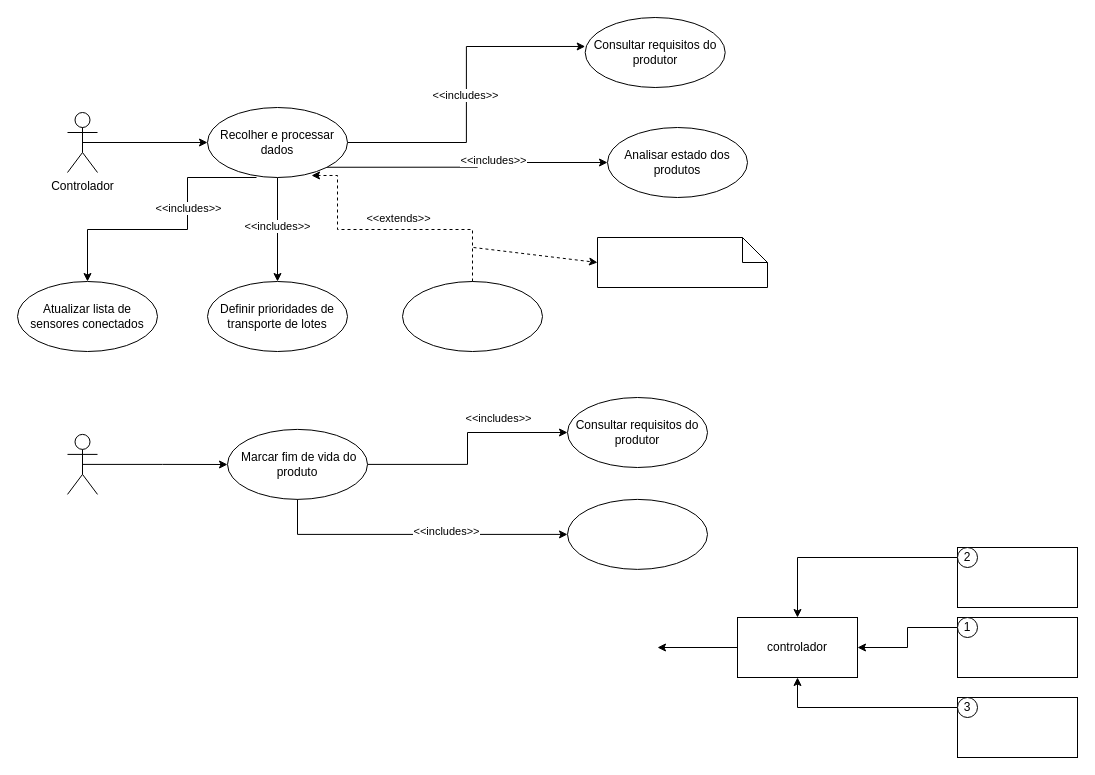
Some shapes in this 1095 by 775 pixel diagram are drawn without their labels. The shapes that lost their labels are listed below. From the top down, each one's box as (x1, y1, x2, y2) in pixels, then its label:
(596, 236, 768, 288): {produtos em fim de vida}
(402, 280, 542, 352): Registar alerta para produtos em fim de vida
(66, 433, 98, 494): Funcionário
(566, 498, 708, 569): Consultar alerta dos produtos em fim de vida
